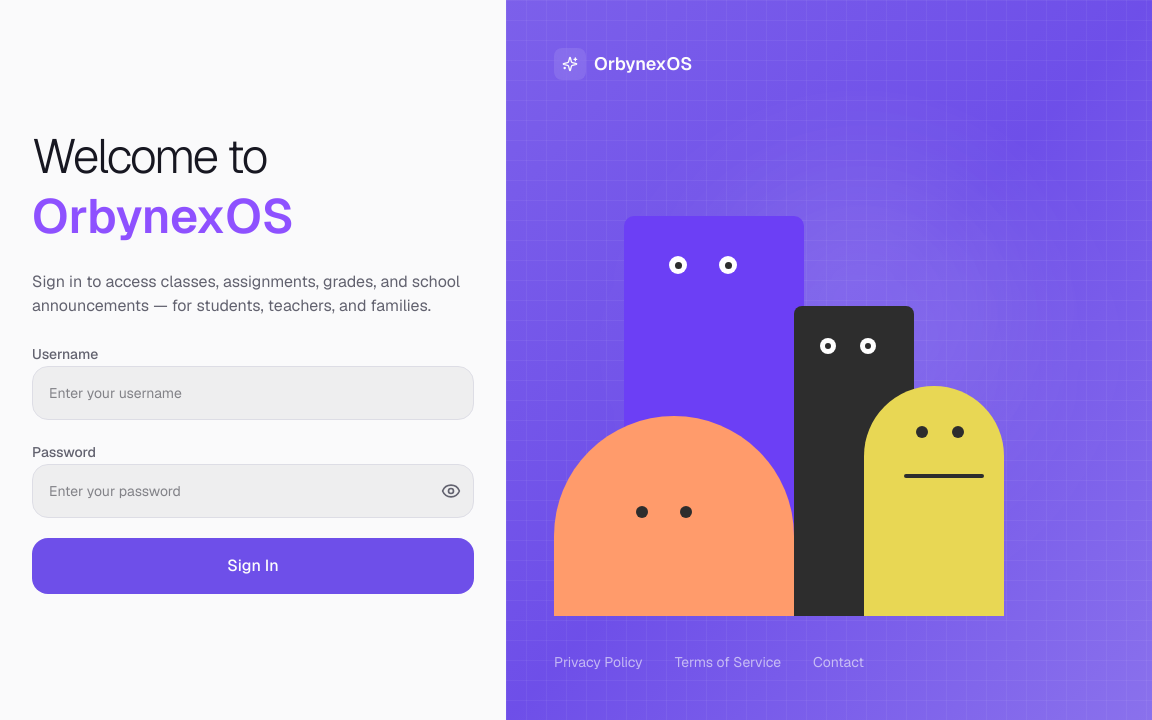
Test: LoginPage › shows an error for invalid credentials
Type "wrong" into the field labelled "Username" at (253, 393), box [33,367,473,419]
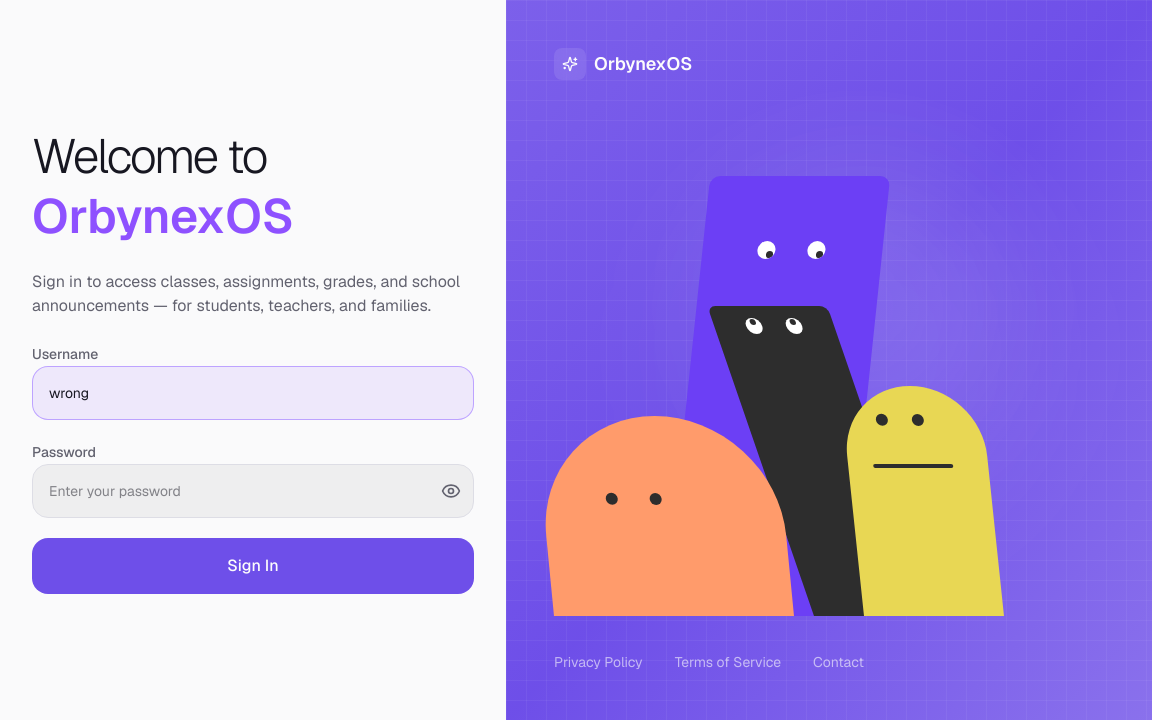
Type "wrong" into the password field labelled "Password" at (253, 491), box [33,465,473,517]
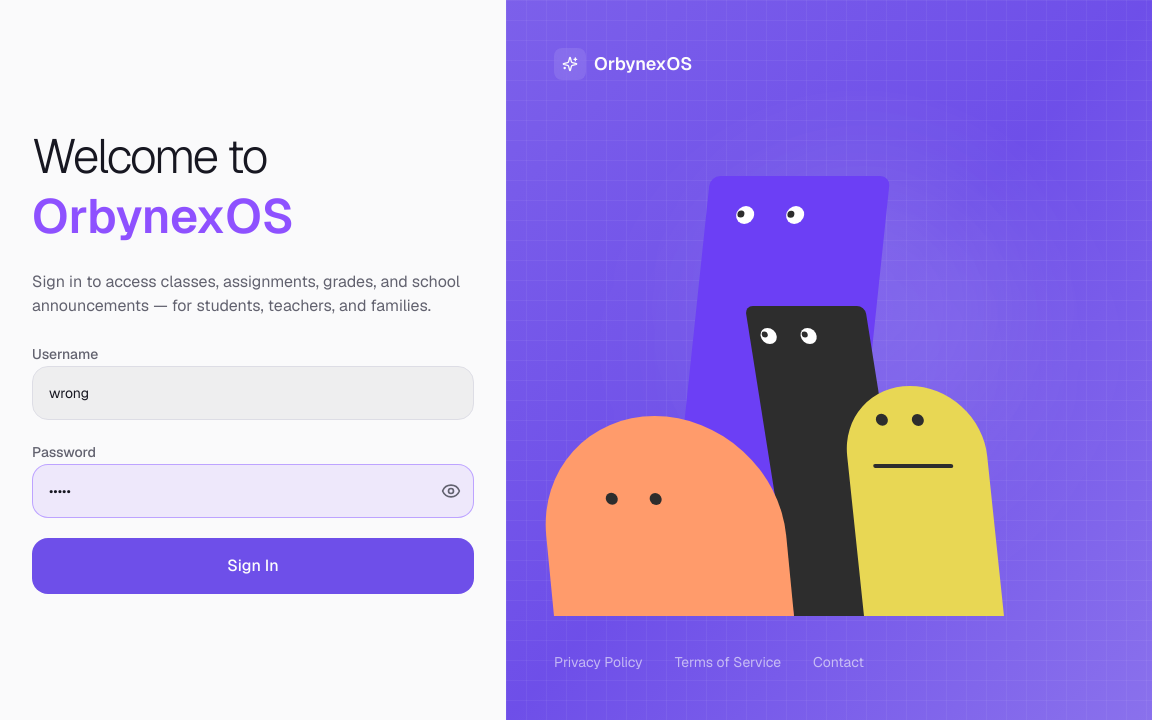
Click the button "Sign In" at (253, 566), box [32,538,474,594]
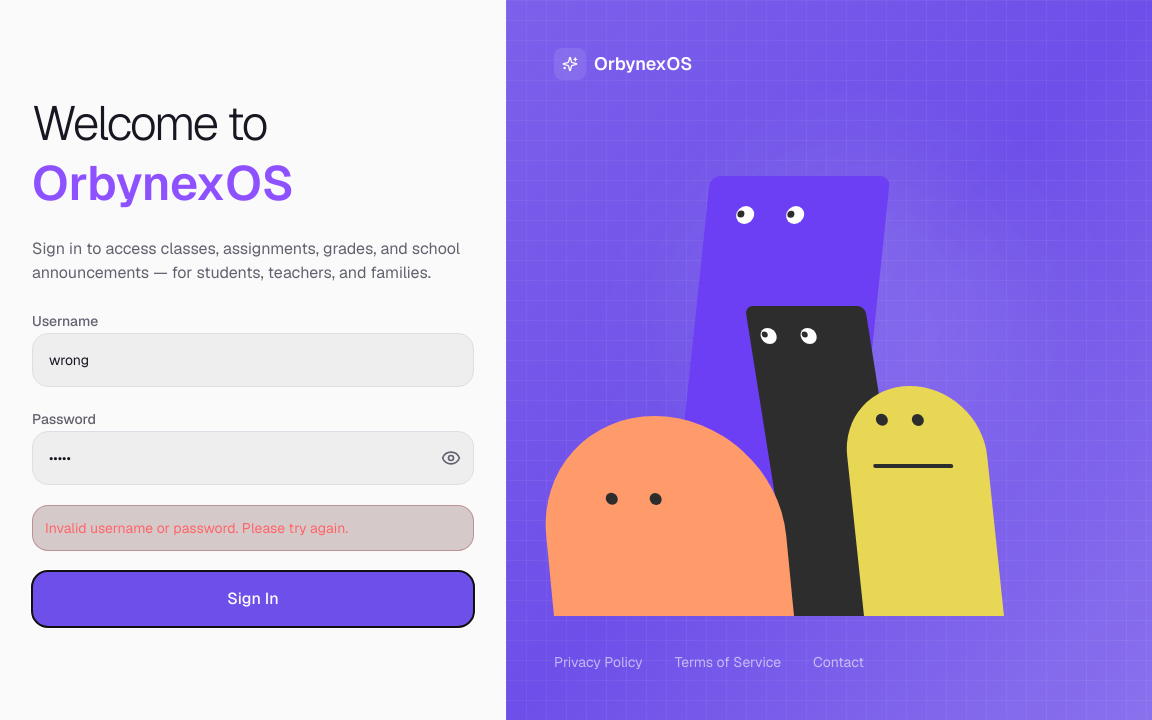
Expected: the message reads "Invalid username or password. Please try again.", [45,519,348,537]
